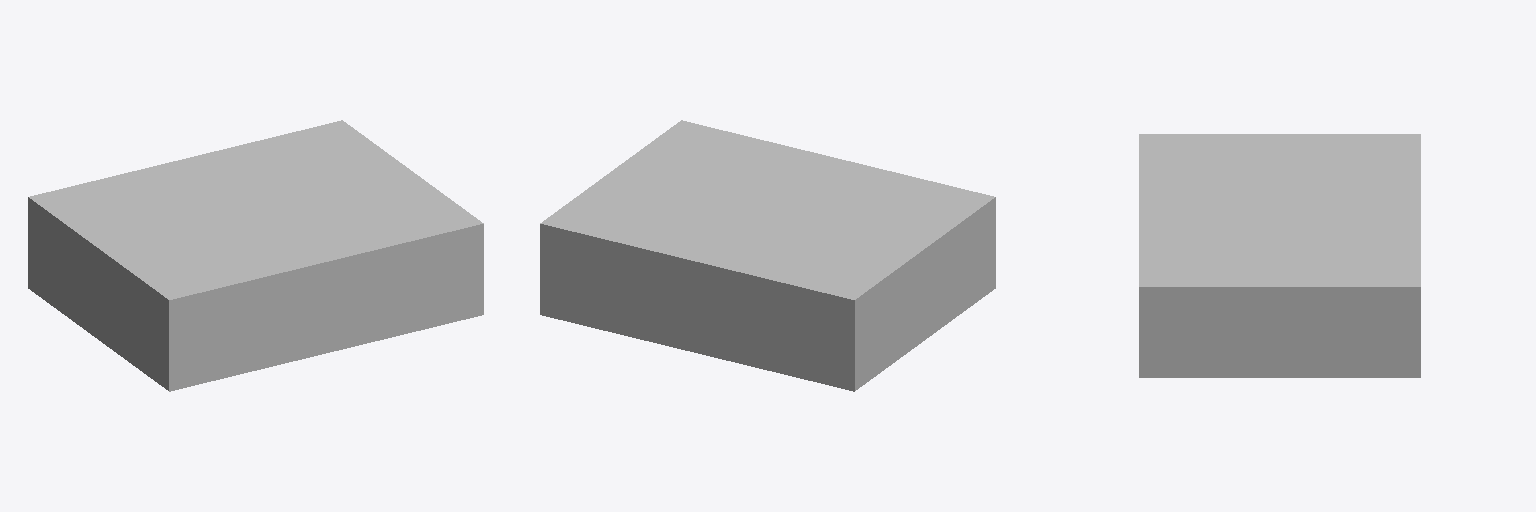
The model's file is storage_room.obj.
The picture shows the model from 3 angles: view 1: azimuth 30°, elevation 25°; view 2: azimuth 150°, elevation 25°; view 3: azimuth 270°, elevation 25°; orthographic projection.
Parts seen in each view (by area): view 1: Storage2_00; view 2: Storage2_00; view 3: Storage2_00.
Part boxes in pixels (x1,y1,x2,y2): Storage2_00: (28, 120, 483, 391); Storage2_00: (540, 120, 995, 391); Storage2_00: (1139, 134, 1420, 377).
Size of the model in its own units: 18 by 5 by 14.